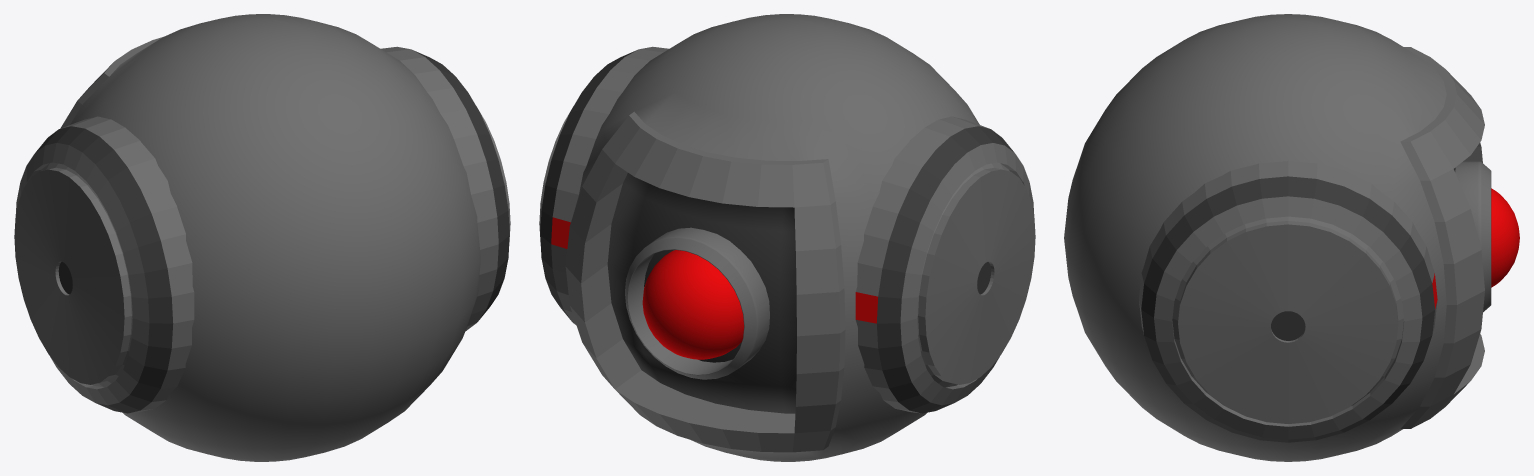
The model's file is drone_01_fbx.fbx.
The picture shows the model from 3 angles, left to right: view 1: azimuth 30°, elevation 25°; view 2: azimuth 150°, elevation 25°; view 3: azimuth 270°, elevation 25°; orthographic projection.
Visible parts, largest first — view 1: Sphere; view 2: Sphere; view 3: Sphere.
Boxes of the visible parts, bbox=[...] form: Sphere: bbox=[14, 14, 510, 461]; Sphere: bbox=[539, 14, 1035, 461]; Sphere: bbox=[1064, 14, 1519, 461].
Size of the model in its own units: 66.87 by 65.49 by 66.59.
